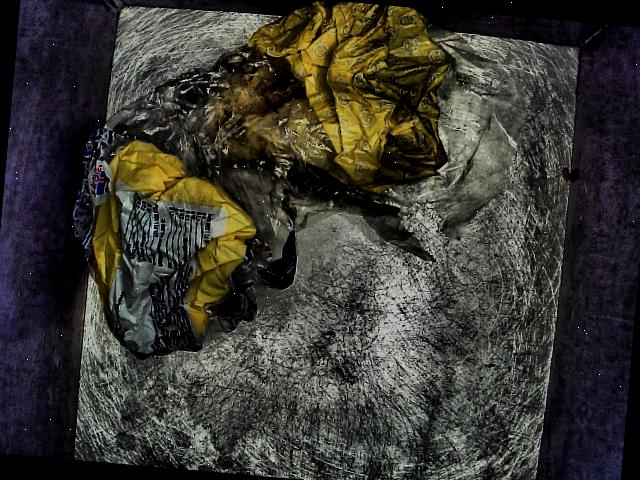Plastic: (48, 0, 514, 428)
